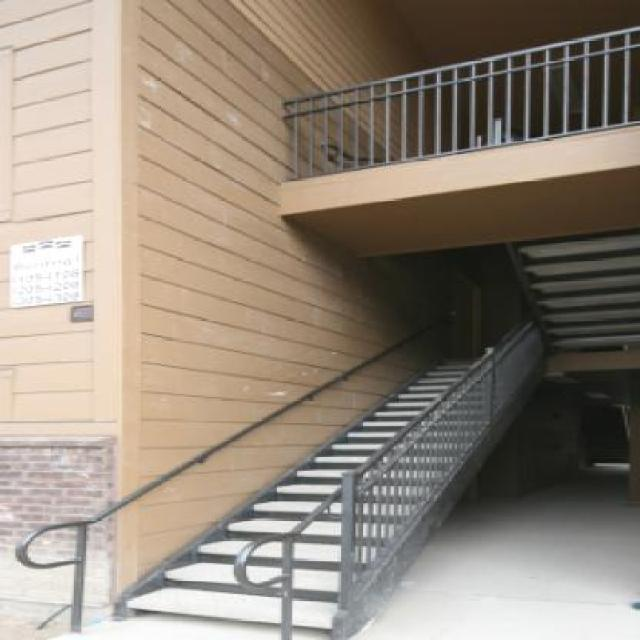stair: (68, 220, 598, 638)
